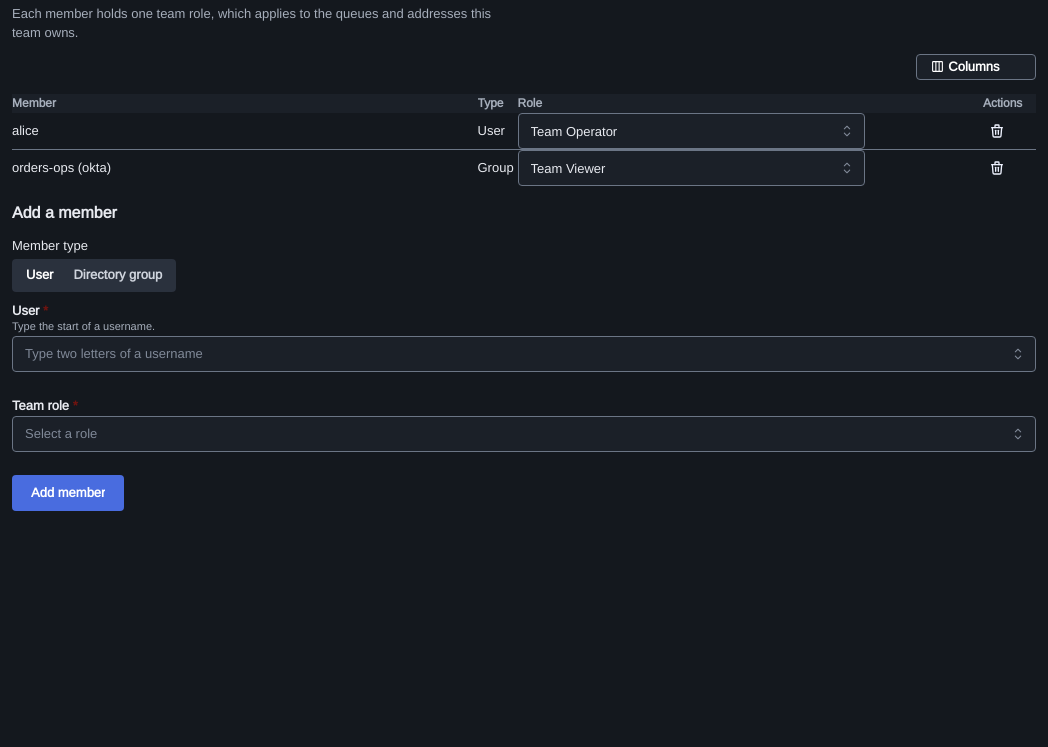
Test case: TeamMembers › says why a member could not be added, in words
Type "bo" into the dropdown labelled "User *" at coordinates (524, 354), box x1=12 y1=336 x2=1036 y2=372
(page scrolled)
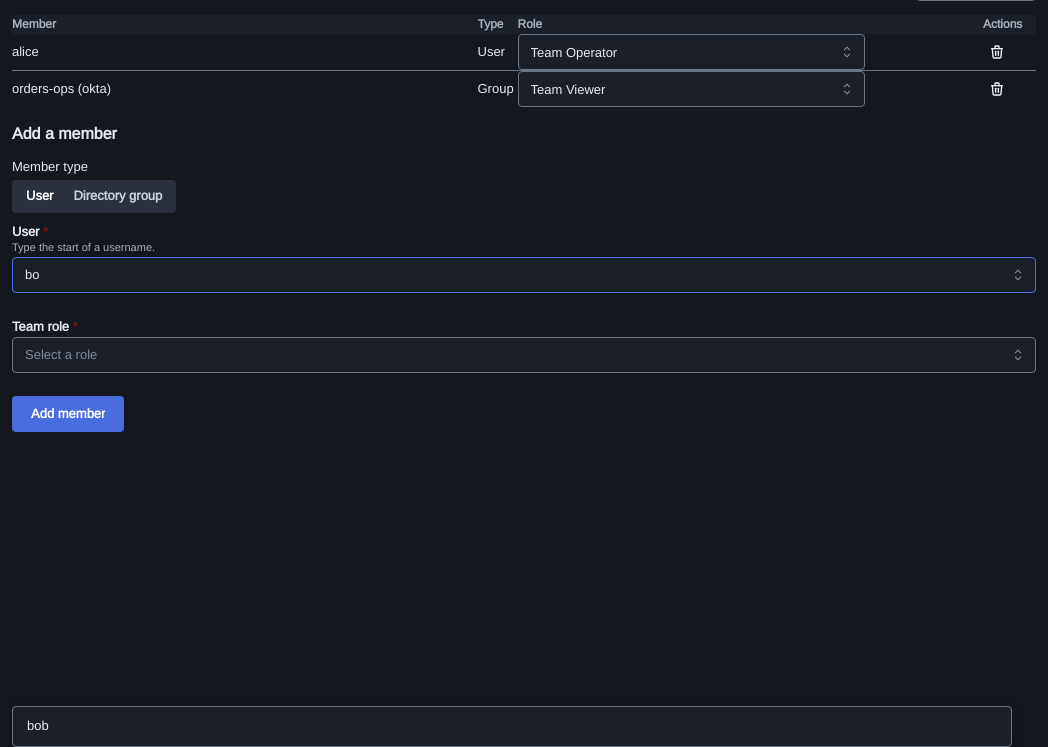
Click the option "bob" at coordinates (38, 726), box x1=27 y1=717 x2=49 y2=734
(page scrolled)
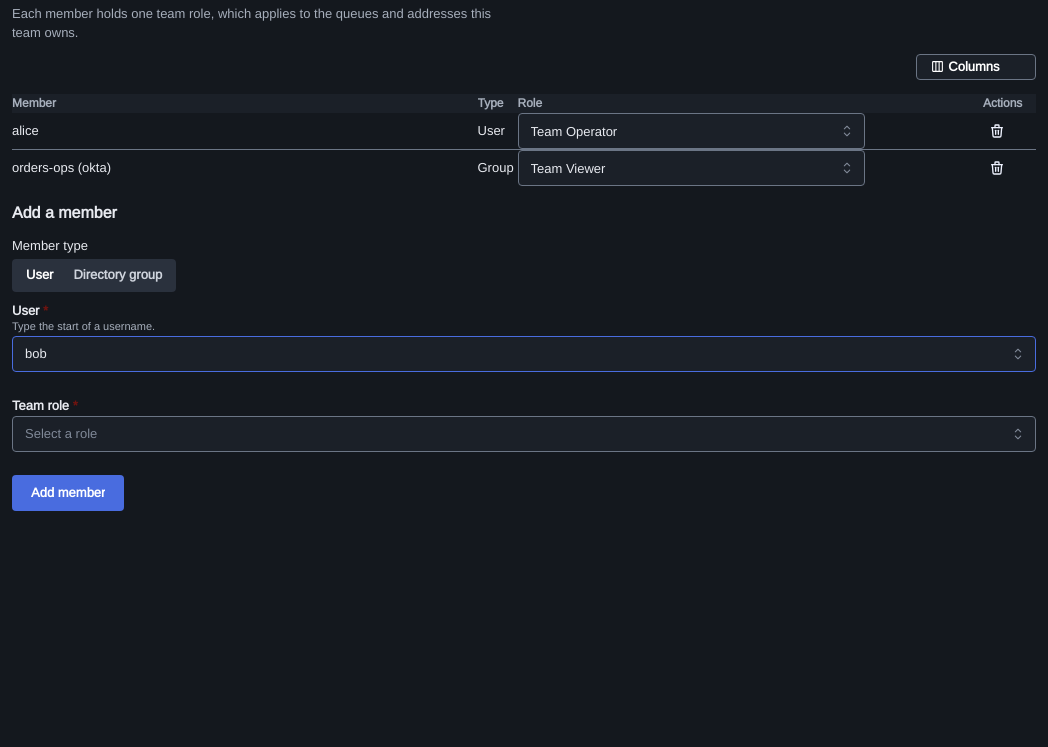
Click the dropdown labelled "Team role *" at coordinates (524, 434), box x1=12 y1=416 x2=1036 y2=452
(page scrolled)
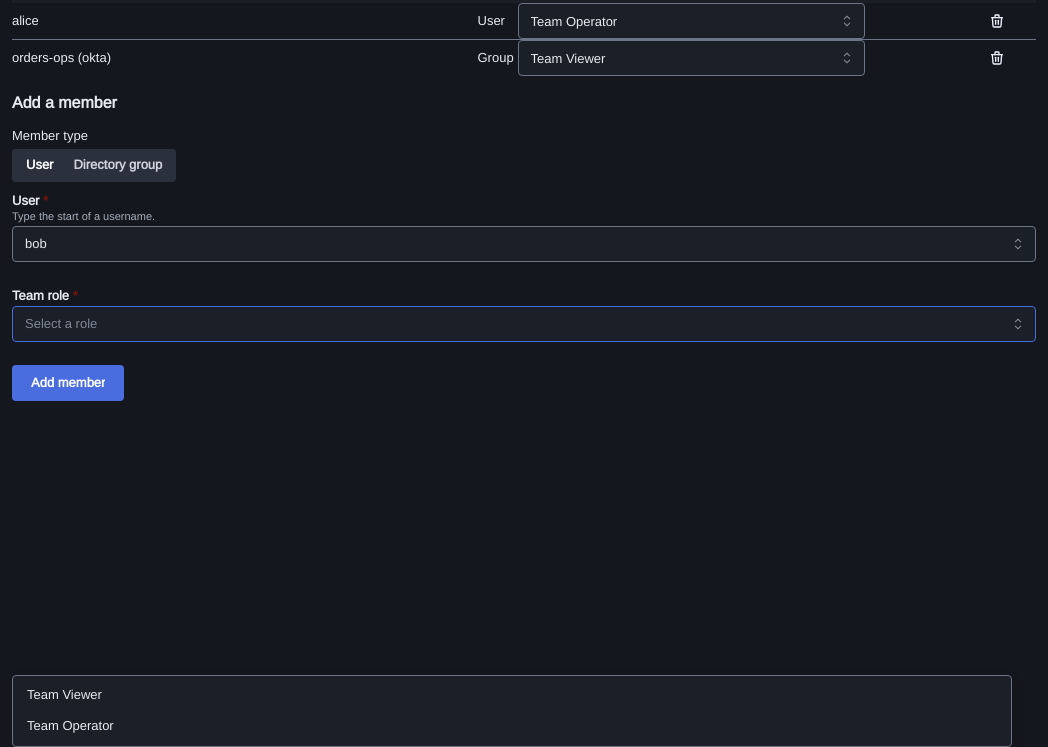
Click the option "Team Viewer" at coordinates (64, 694), box x1=27 y1=686 x2=102 y2=703
(page scrolled)
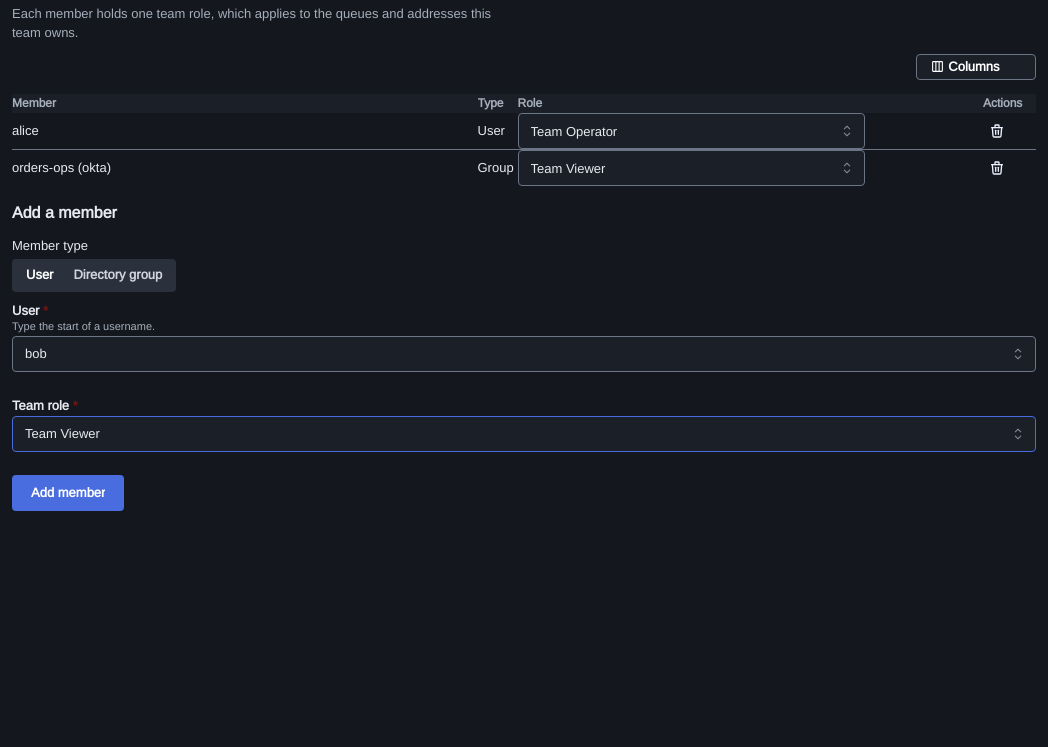
Click the button "Add member" at coordinates (68, 493), box x1=12 y1=475 x2=124 y2=511
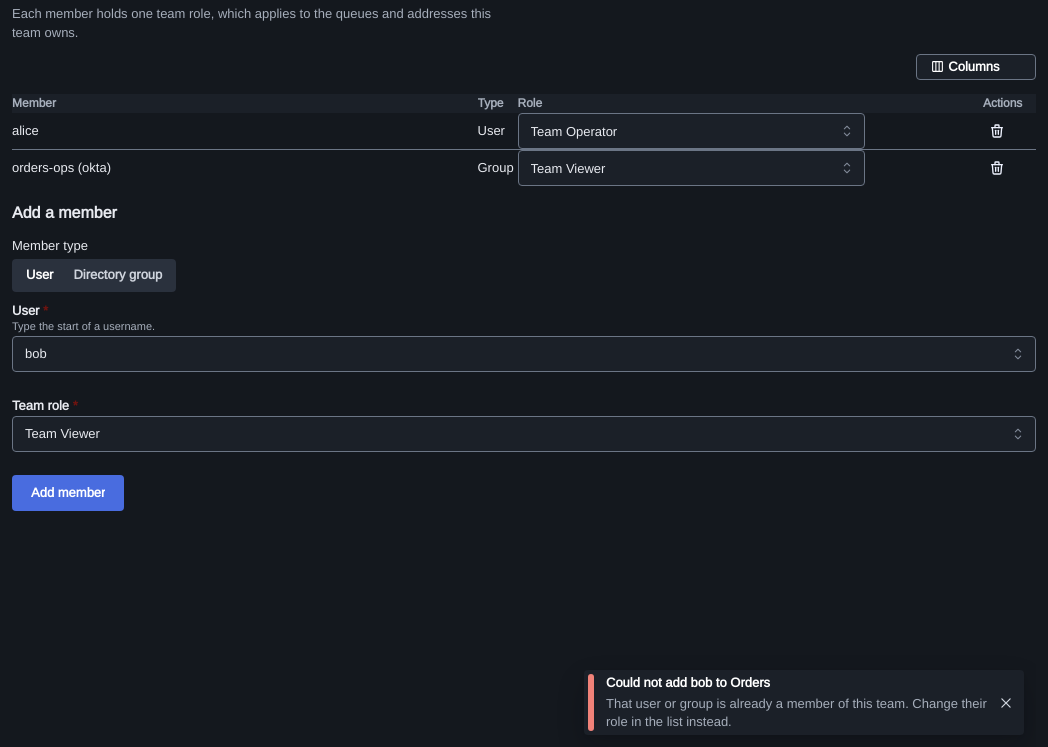
Expected: the message shows "That user or group is already a member of this team.", x1=606 y1=695 x2=987 y2=730
Expected: the message shows "Change their role in the list instead.", x1=606 y1=695 x2=987 y2=730
